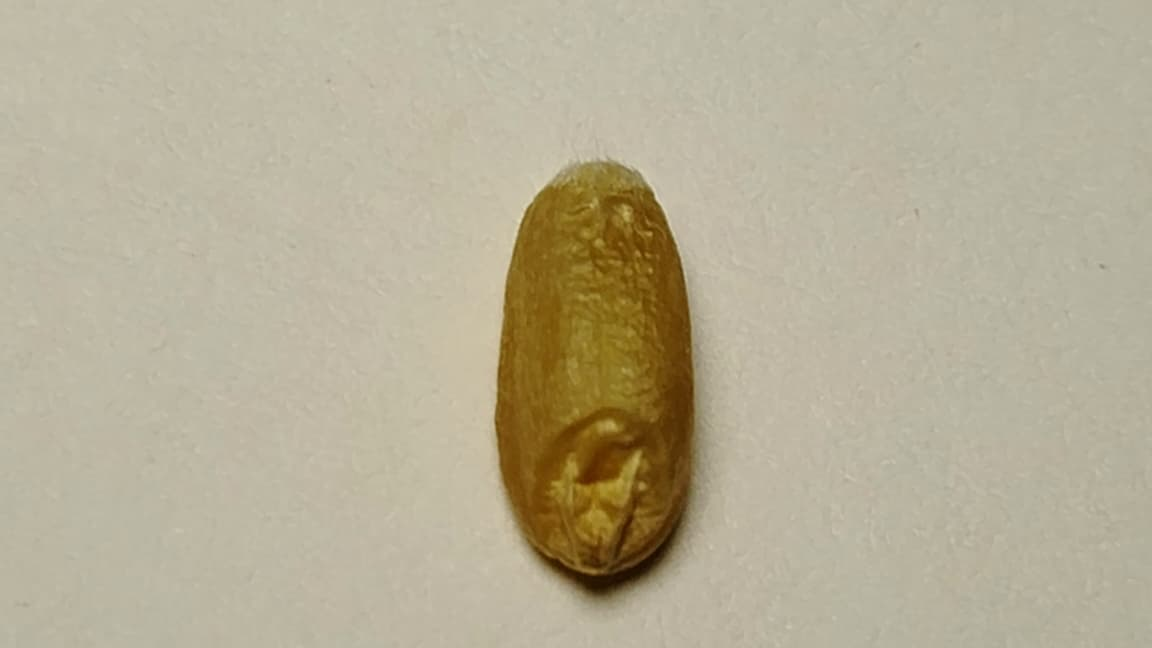healthy: (495, 161, 693, 574)
